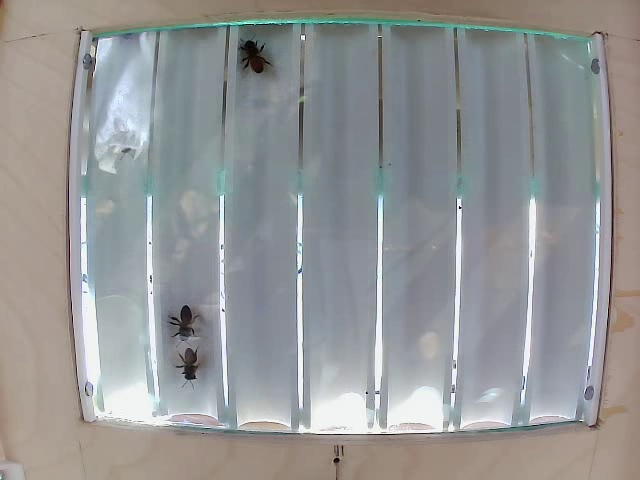bee: (239, 35, 270, 79), (175, 343, 209, 383), (168, 305, 199, 342)
